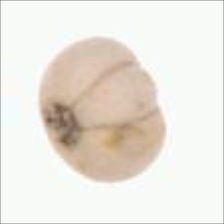L5: (70, 60, 163, 131), (38, 99, 84, 156)
L6: (32, 33, 169, 188)
